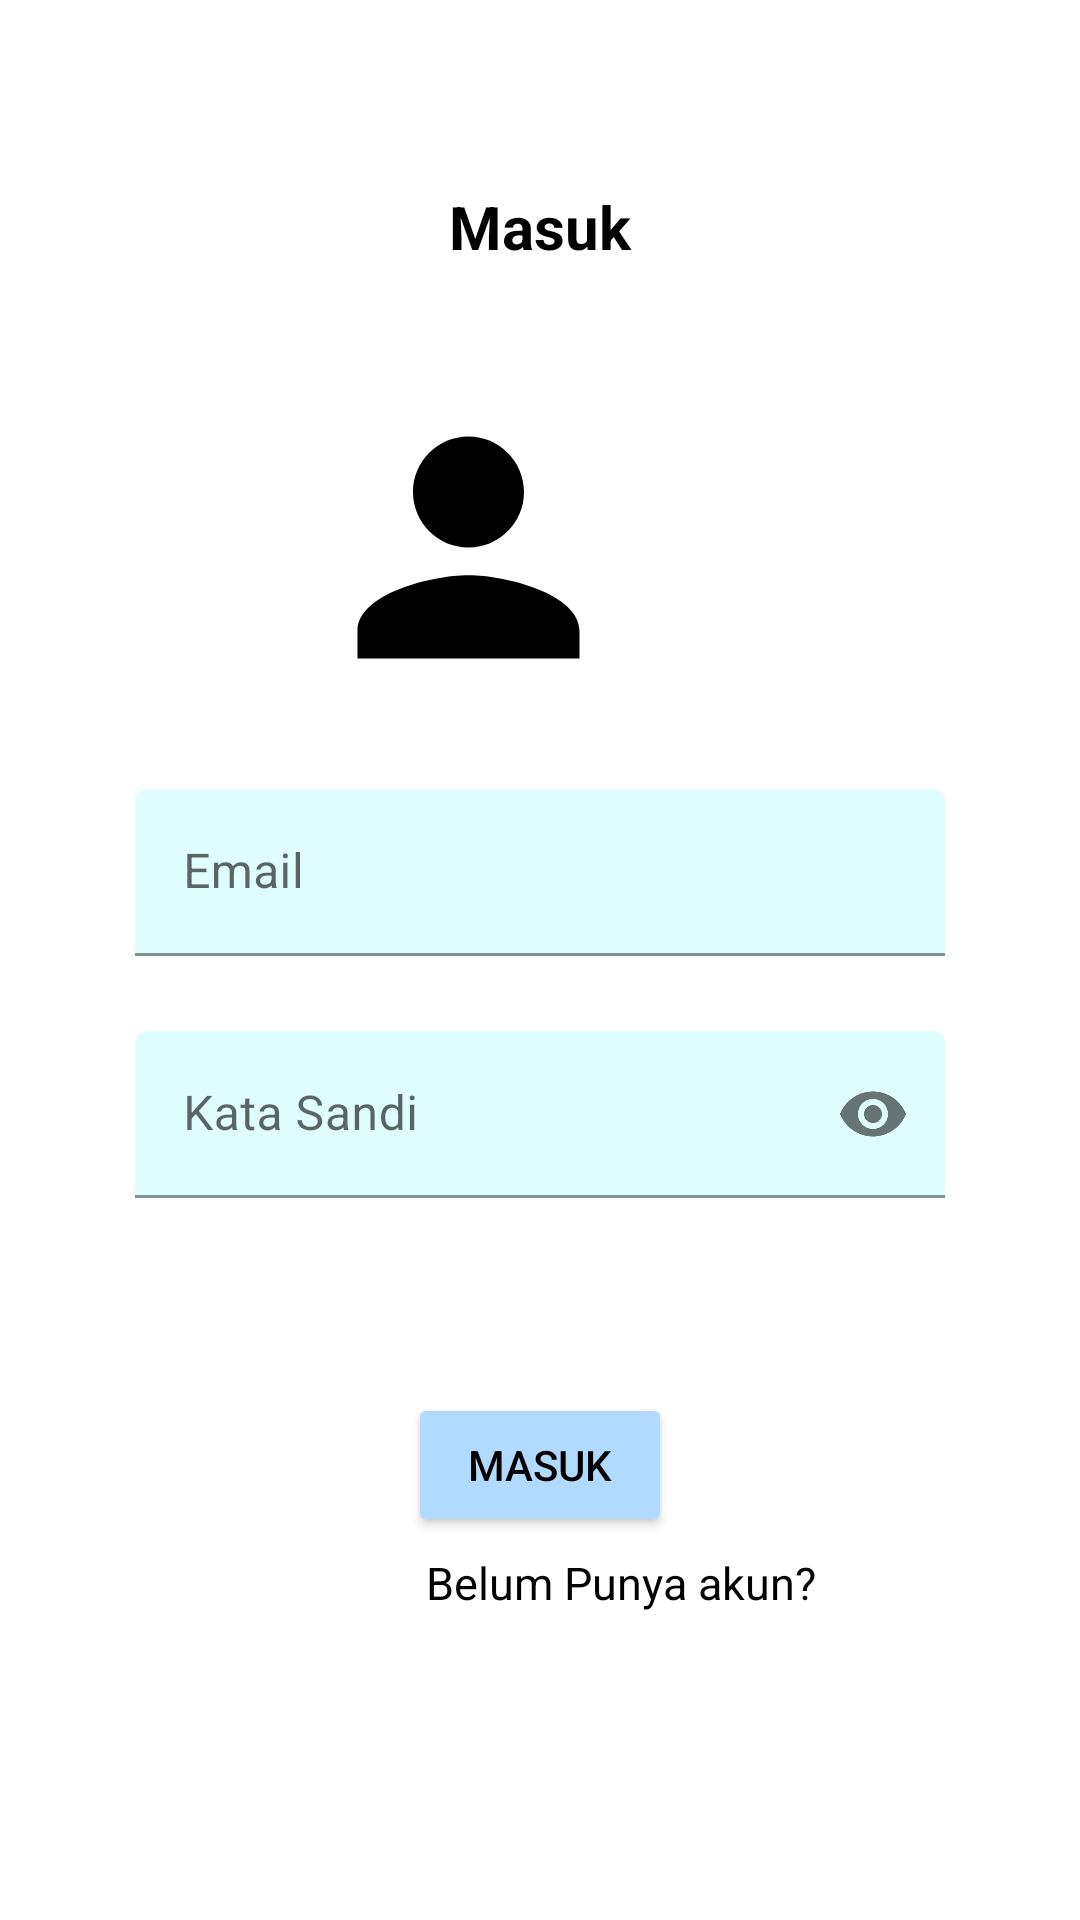

Locate icon controls on the screen. Image size 1080 × 1920, boxes as rect(x1, y1, x2, y2).
person: rect(357, 436, 580, 659)
